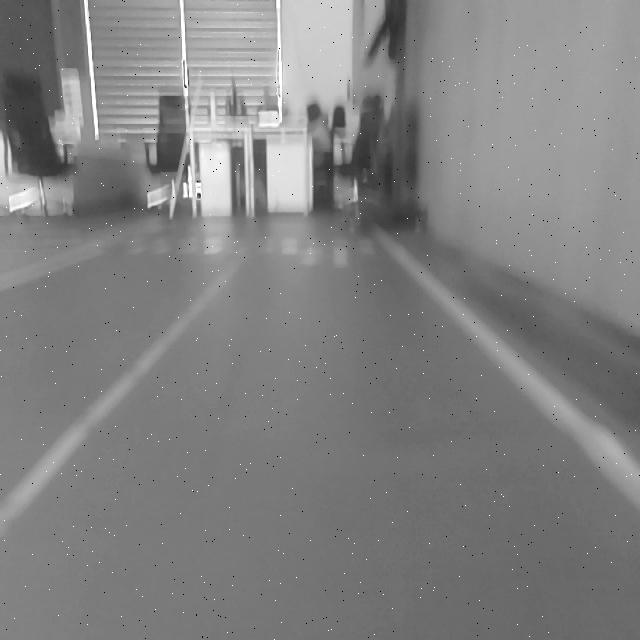left_lane: (1, 253, 246, 538)
right_lane: (375, 228, 639, 508)
